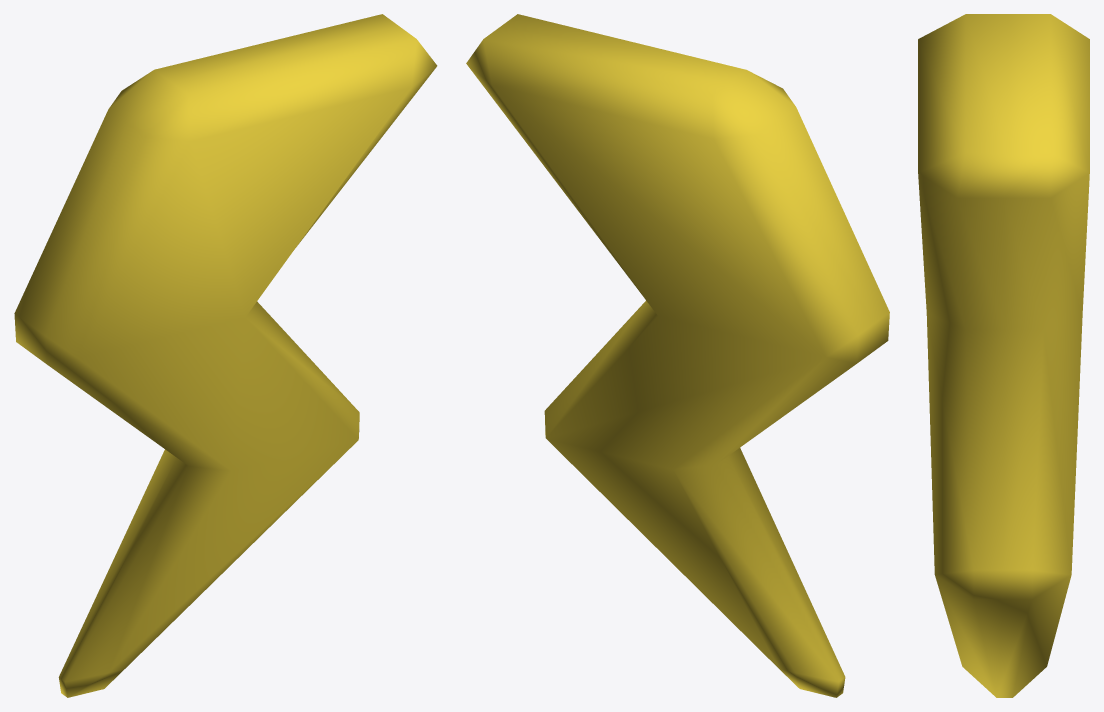
Rendered from EnergyPickUpsMeshNEW.fbx.
3 renders of one model, left to right at view 1: azimuth 30°, elevation 25°; view 2: azimuth 150°, elevation 25°; view 3: azimuth 270°, elevation 25°, orthographic. The views are drawn at different scales.
Parts seen in each view (by area): view 1: EnergyPickUps; view 2: EnergyPickUps; view 3: EnergyPickUps.
Boxes of the visible parts, x1,y1,x2,y2 form: EnergyPickUps: [14, 14, 437, 697]; EnergyPickUps: [466, 14, 889, 697]; EnergyPickUps: [918, 14, 1089, 697].
Size of the model in its own units: 0.8767 by 1.26 by 0.2705.
